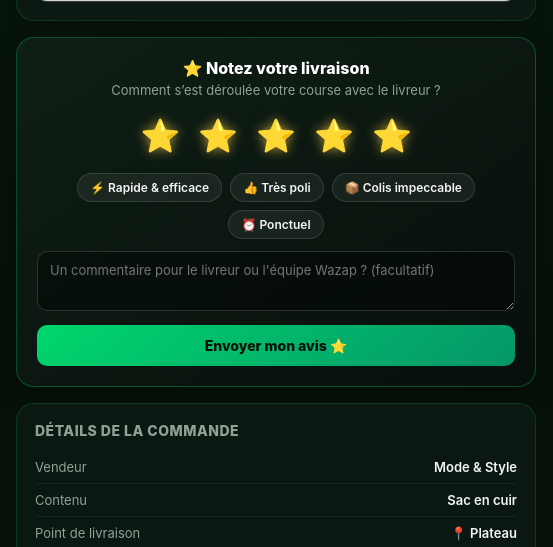
SuiviPage (Suivi client en direct) › permet de noter le livreur et affiche le Reçu Officiel lorsque le colis est livré
The image size is (553, 547).
(page scrolled)
Expected: the heading "⭐ Notez votre livraison" is shown, [182,58,370,78]
Note: Clic sur puce tag rapide
Click the button "⚡ Rapide & efficace" at (150, 188), box [77,173,222,202]
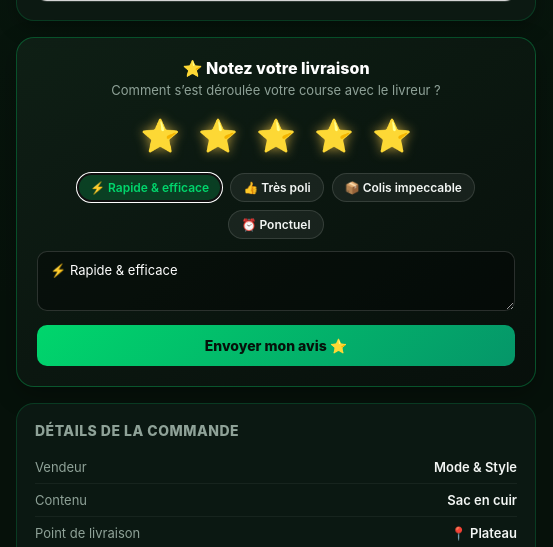
Note: Soumission de la note
Click the button "Envoyer mon avis ⭐" at (276, 346), box [37,325,515,366]
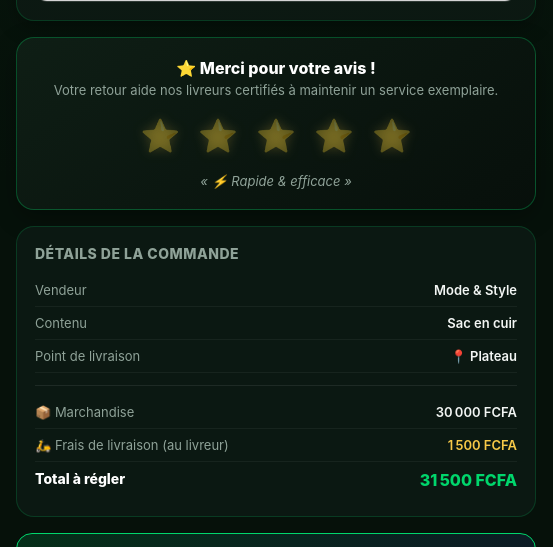
Result: the heading "⭐ Merci pour votre avis !" is shown at [176,58,376,78]
